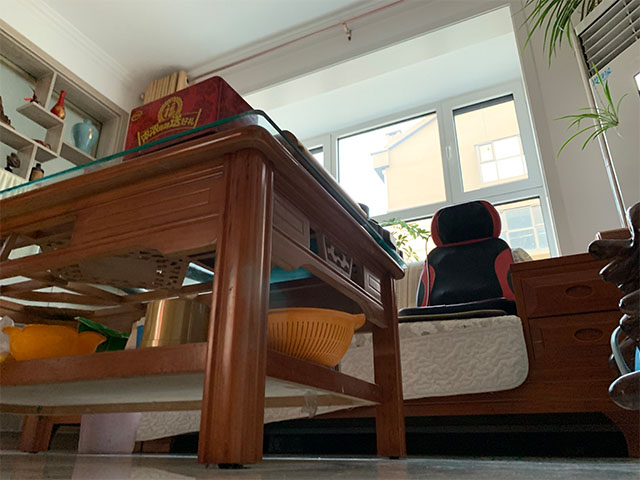sofa: (394, 226, 640, 461)
table: (1, 109, 408, 470)
